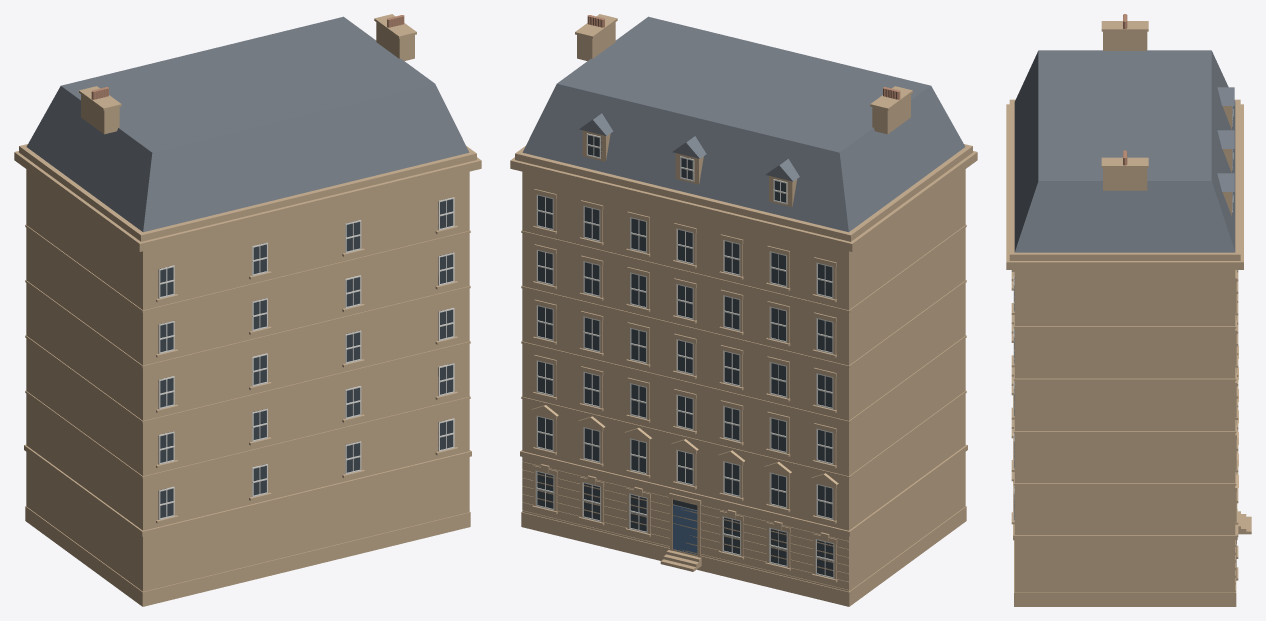
The model's file is classical6.glb.
3 renders of one model, left to right at view 1: azimuth 30°, elevation 25°; view 2: azimuth 150°, elevation 25°; view 3: azimuth 270°, elevation 25°, orthographic. The views are drawn at different scales.
Parts seen in each view (by area): view 1: classical6; view 2: classical6; view 3: classical6.
Part boxes in pixels (left/top/right/bottom): classical6: left=14, top=14, right=481, bottom=606; classical6: left=510, top=14, right=977, bottom=606; classical6: left=1006, top=14, right=1251, bottom=606.
Bounding box in the file's own units: 22 × 28.92 × 14.46.
